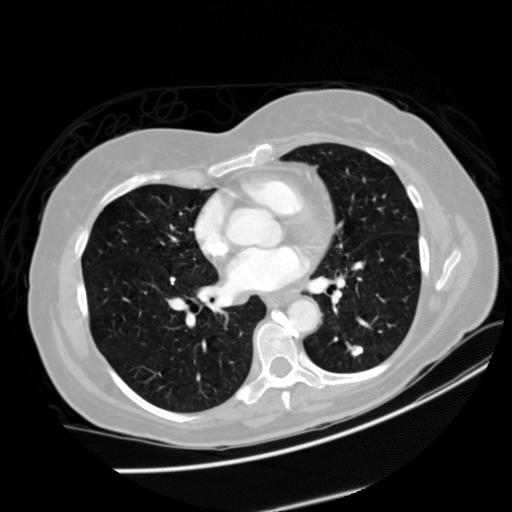nodule: (348, 342, 367, 361)
